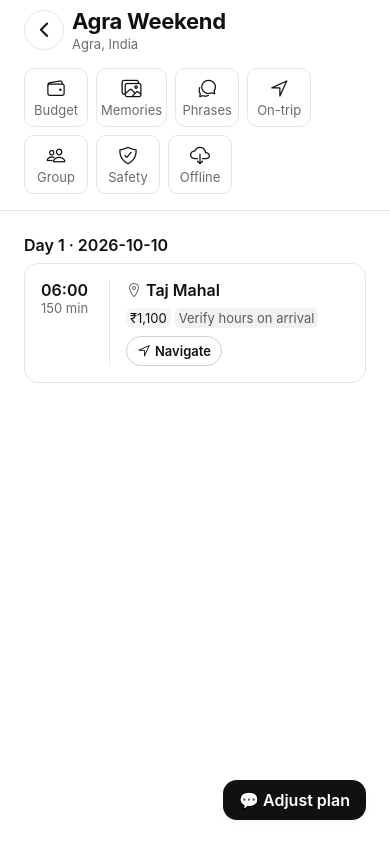
ItineraryViewScreen › downloads the real offline package and persists it locally
This screenshot has width=390, height=844.
Click the button with test id "download-offline-button".
click(200, 164)  # box [168,135,232,194]
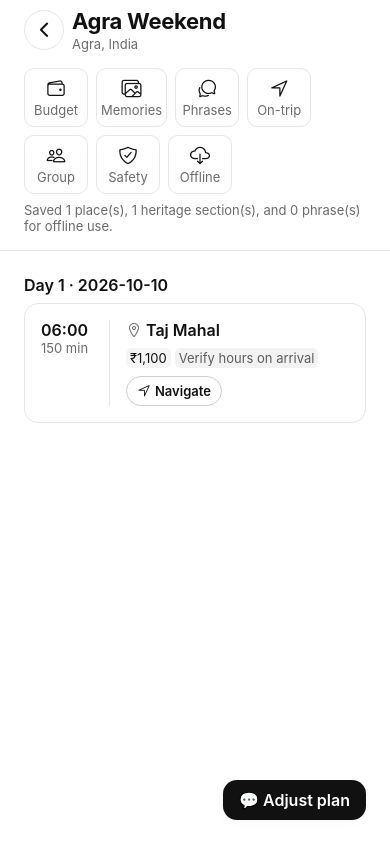
Check: the text with test id "download-message" is shown, box [24,202,366,234]
